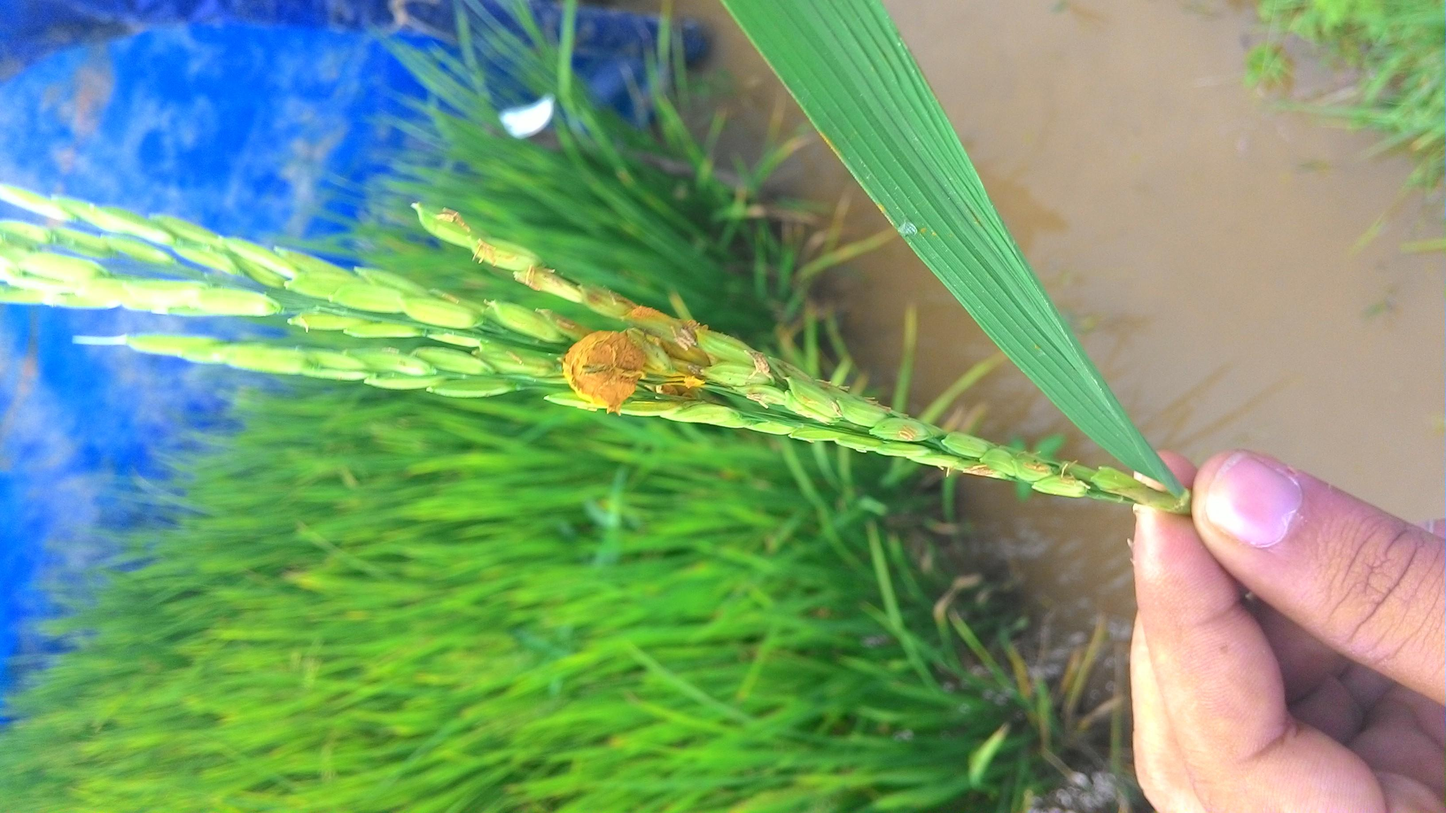False Smut: (800, 399, 890, 496)
